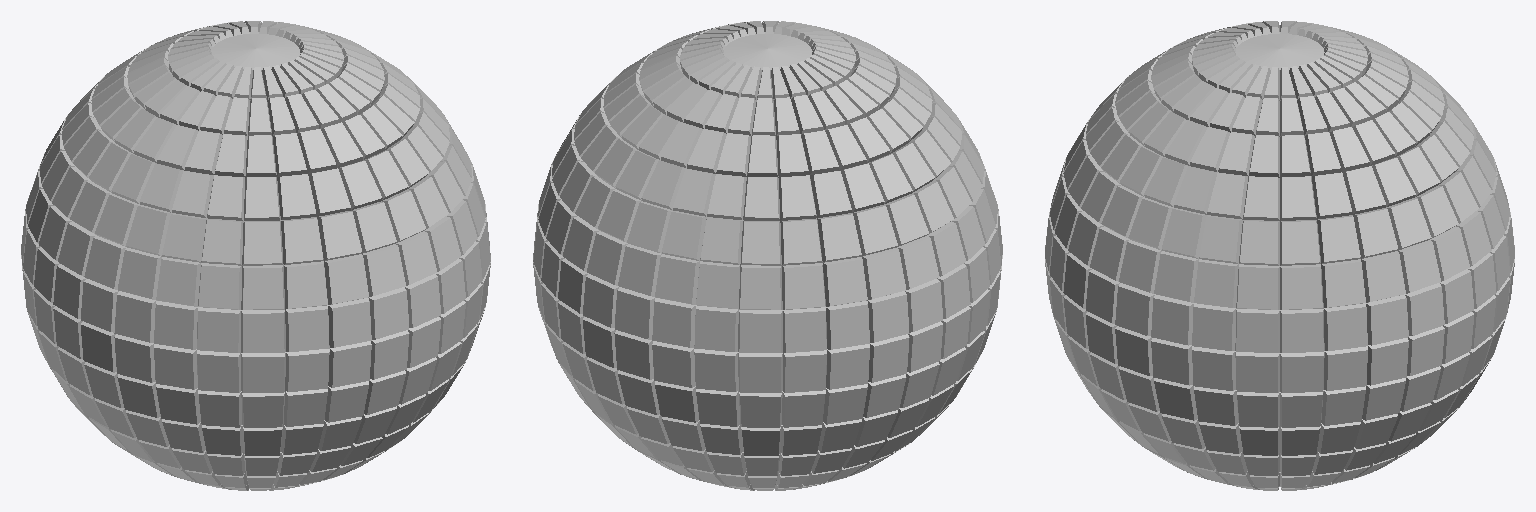
Rendered from Boule_disco.obj.
The picture shows the model from 3 angles: view 1: azimuth 30°, elevation 25°; view 2: azimuth 150°, elevation 25°; view 3: azimuth 270°, elevation 25°; orthographic projection.
Parts seen in each view (by area): view 1: Boule_disco; view 2: Boule_disco; view 3: Boule_disco.
Part boxes in pixels (x1,y1,x2,y2): Boule_disco: (21, 21, 490, 490); Boule_disco: (533, 21, 1002, 490); Boule_disco: (1045, 21, 1514, 490).
Bounding box in the file's own units: 30.85 × 30.22 × 30.85.